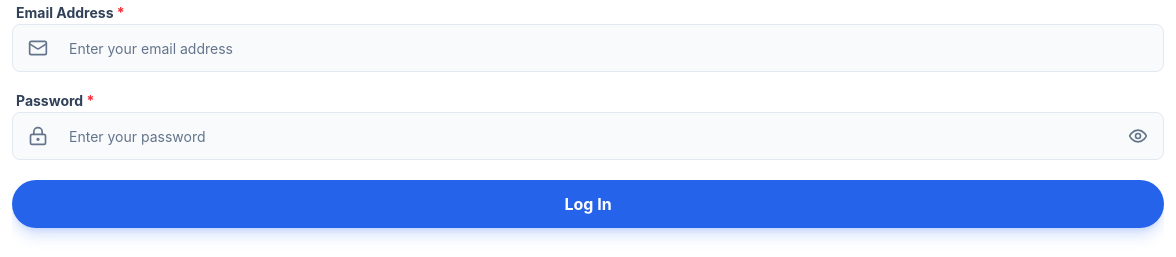
Test: LoginForm Component › supports repeated visibility toggling after blur and refocus
In the password field with placeholder "Enter your password": (588, 136) x1=12 y1=112 x2=1164 y2=160, type "secret123"
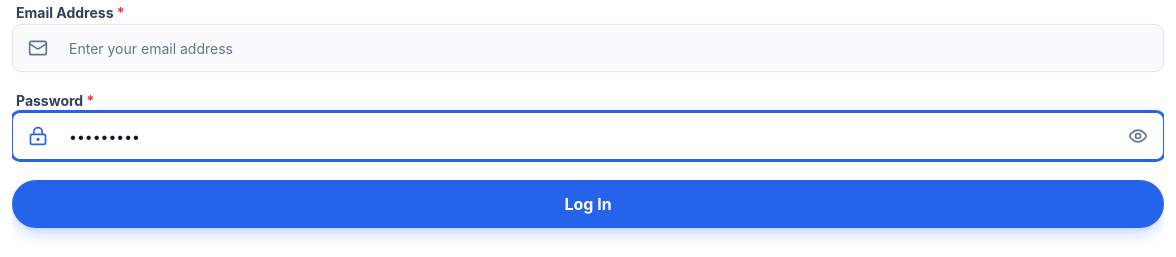
Press Tab
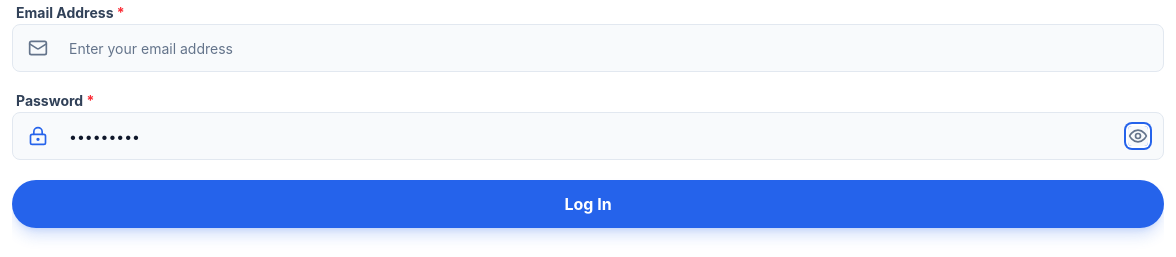
Click the password field with placeholder "Enter your password": (588, 136) x1=12 y1=112 x2=1164 y2=160
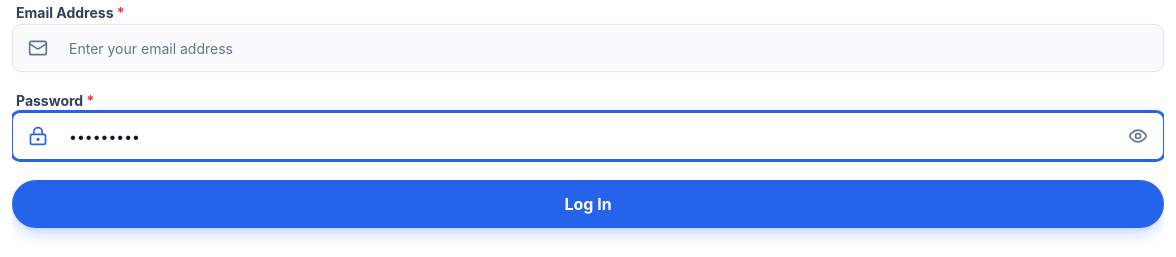
Click the button named "show password": (1138, 136) x1=1128 y1=126 x2=1148 y2=146
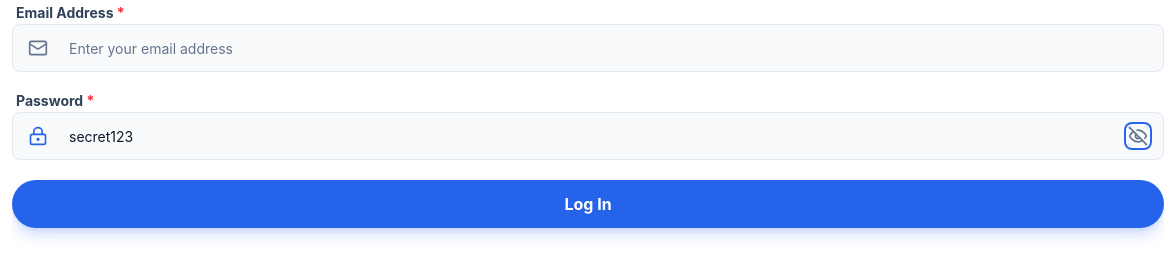
Now the field with placeholder "Enter your password" shows its text, box x1=12 y1=112 x2=1164 y2=160
Click the button named "hide password": (1138, 136) x1=1128 y1=126 x2=1148 y2=146
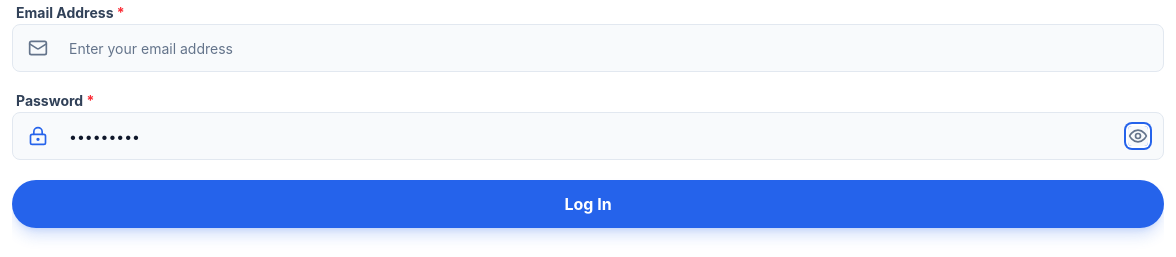
Now the password field with placeholder "Enter your password" hides its text, box x1=12 y1=112 x2=1164 y2=160
Click the button named "show password": (1138, 136) x1=1128 y1=126 x2=1148 y2=146
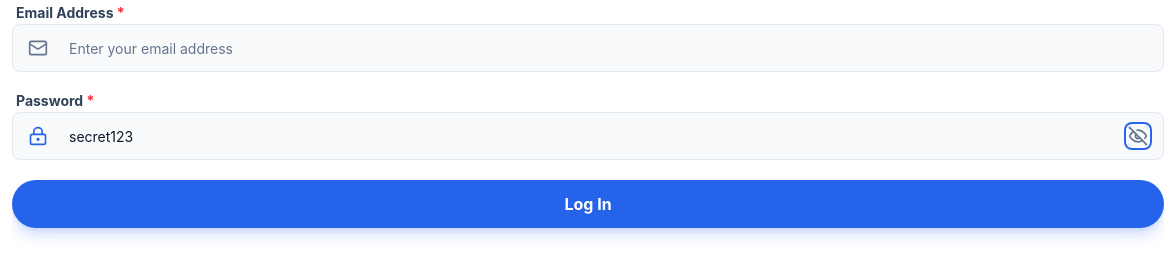
Now the field with placeholder "Enter your password" shows its text, box x1=12 y1=112 x2=1164 y2=160
